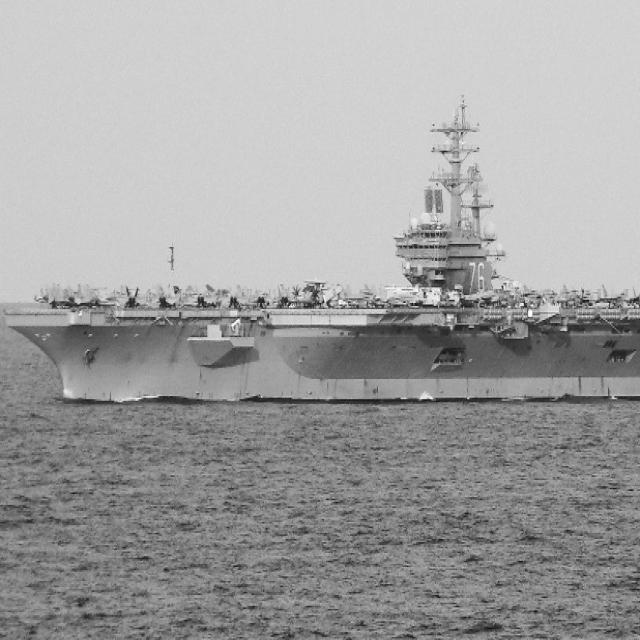Portanaves: (6, 87, 640, 411)
